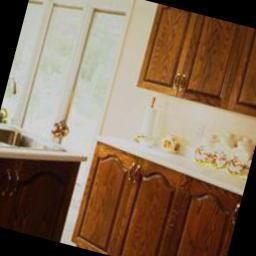Lavaplatos: (0, 63, 81, 167)
